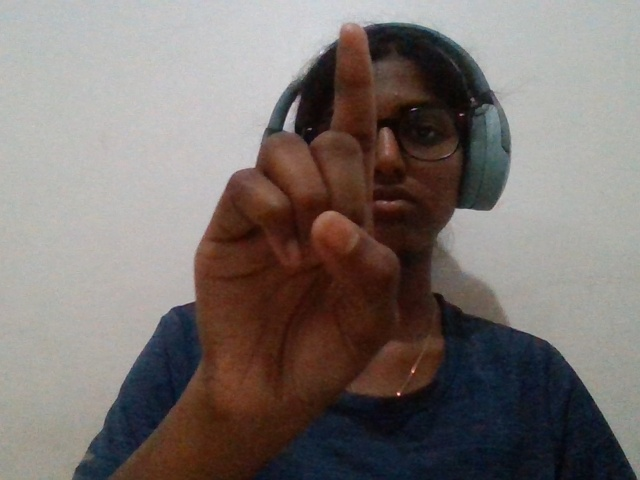D: (180, 21, 407, 470)
